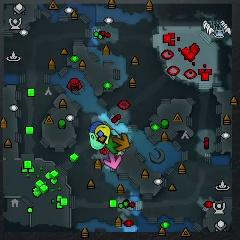p1: (89, 121, 104, 133)
p2: (89, 132, 106, 150)
p4: (95, 124, 110, 145)
x1: (104, 151, 122, 170)
x4: (106, 135, 120, 154)
x5: (113, 133, 131, 151)
